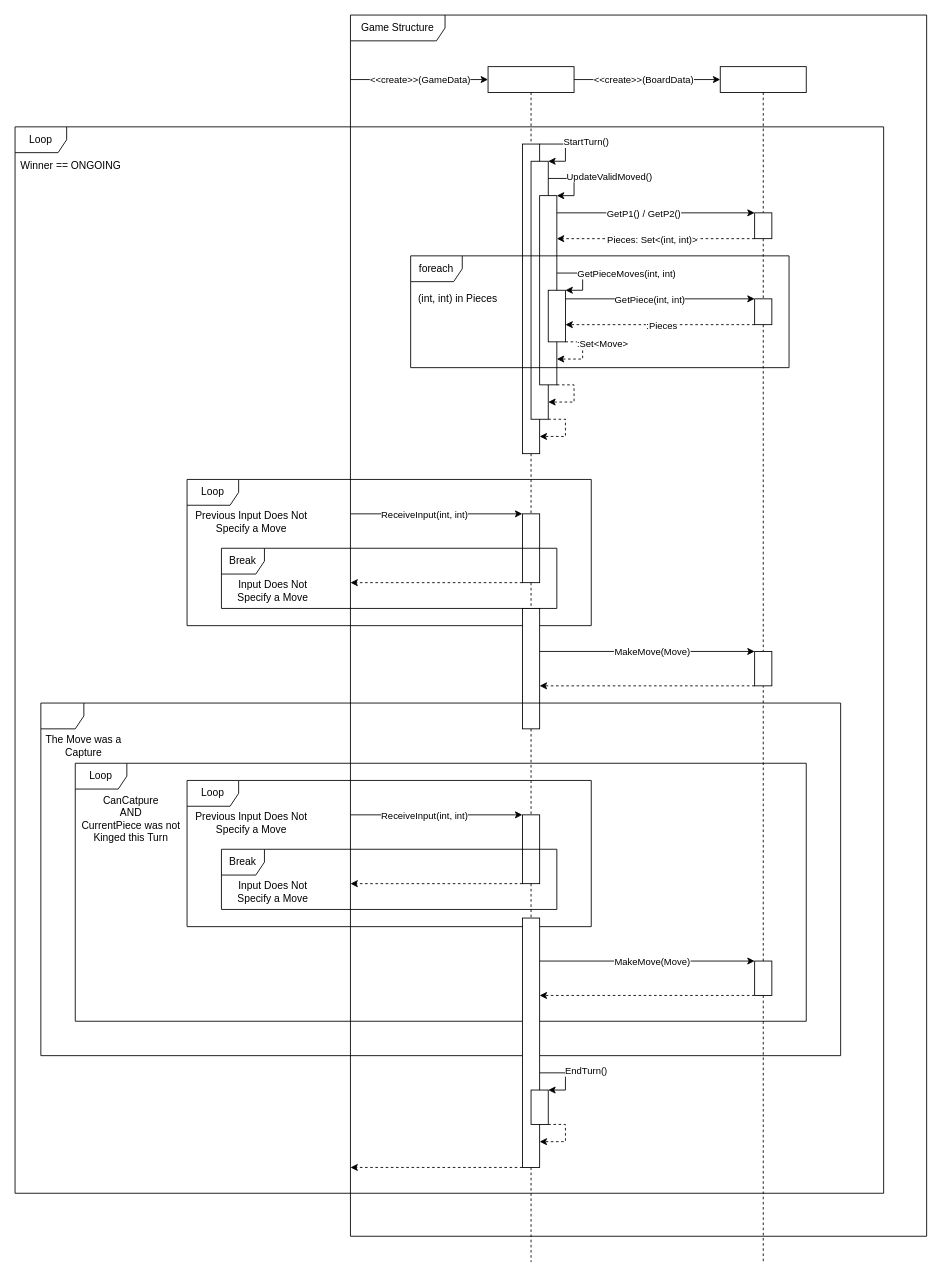
The diagram is 942 pixels wide and 1278 high, and some of its shapes have lost their labels. Each missing label, with the box of its shape:
Alt: (40, 702, 841, 1056)
CheckersBoard: (719, 66, 806, 92)
GameController: (487, 66, 574, 92)
